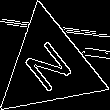N_SE: (20, 35, 79, 98)
